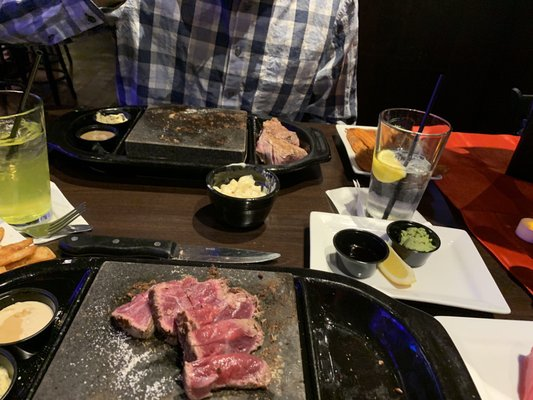sandwich: (50, 236, 278, 266)
soup: (0, 218, 36, 270)
sushi: (205, 163, 280, 230), (0, 286, 59, 360), (331, 229, 390, 280), (386, 220, 441, 267)
